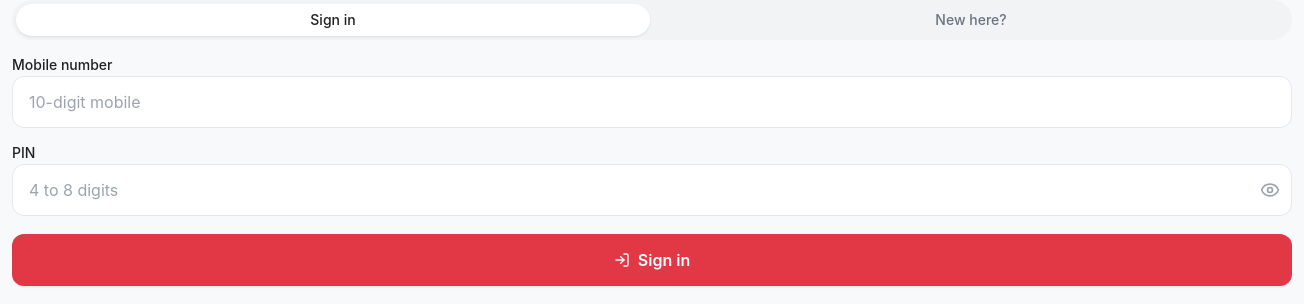
Test: CustomerMobileAuth › keeps letters out of the number and the PIN
In the field labelled "Mobile number": (652, 102) top-left (12, 76), bottom-right (1292, 128), type "98a76b54c32d10"
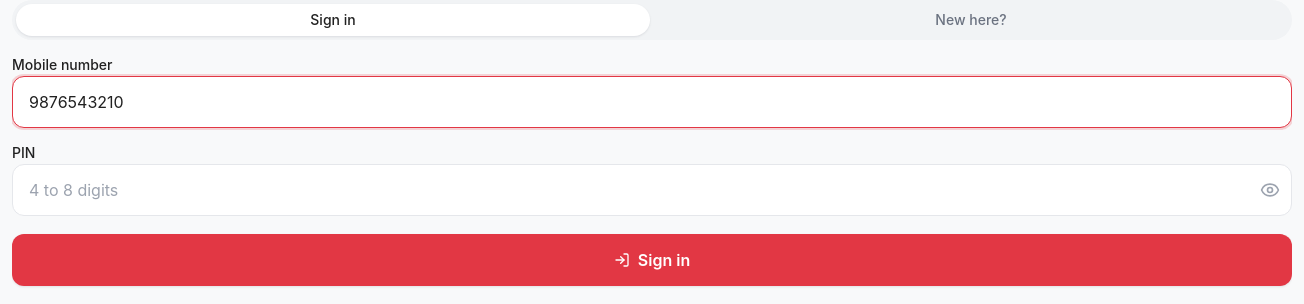
Now the field labelled "Mobile number" holds "9876543210", box top-left (12, 76), bottom-right (1292, 128)
